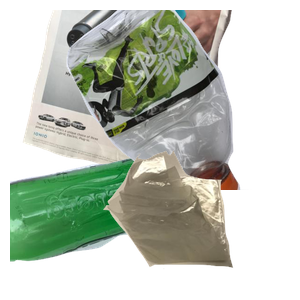glass: (10, 149, 203, 300)
paper: (20, 10, 244, 190)
plastic: (64, 10, 300, 190)
trash: (101, 148, 300, 300)
